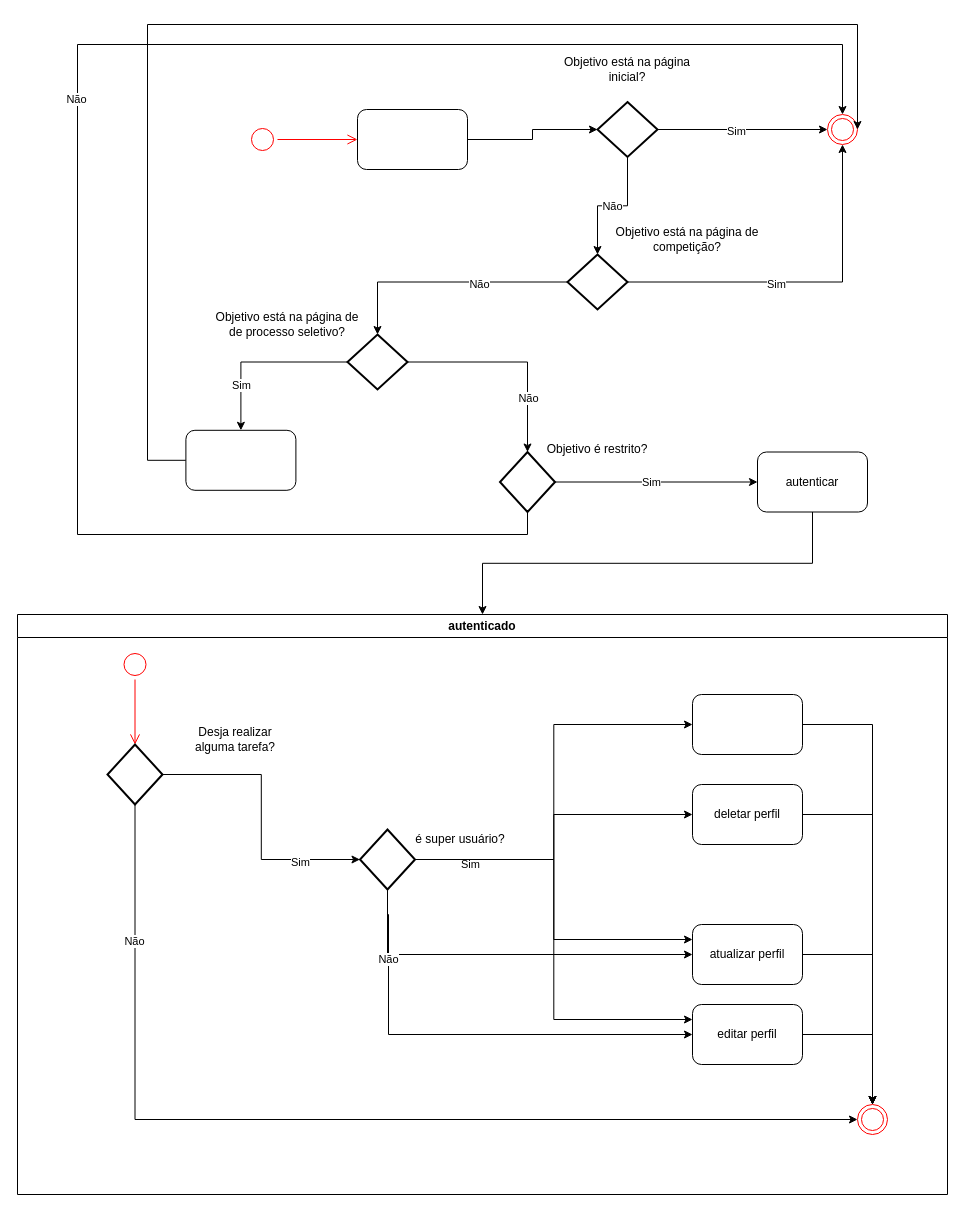
This 965x1212 diagram has some shape labels left out. Here are the shapes that lost their labels. From the top down, the centre of each, then its label:
At (x=412, y=139): "Acessar página de início".
At (x=240, y=459): "Encaminhar para um formulário".
At (x=747, y=724): "cadastrar usuário".
